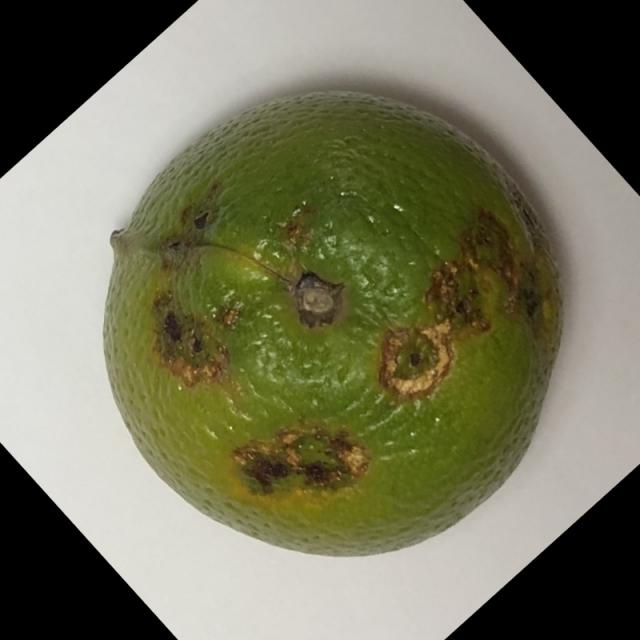canker: (84, 80, 573, 564)
